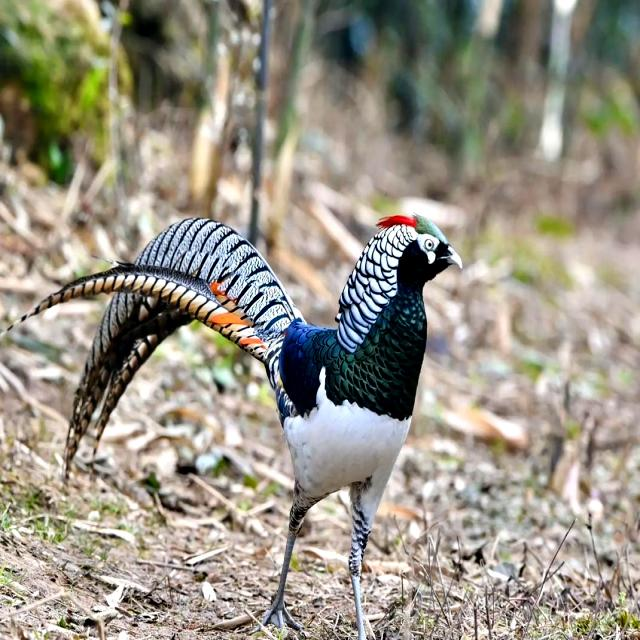Chrysolophus amherstiae: (23, 218, 302, 467)
